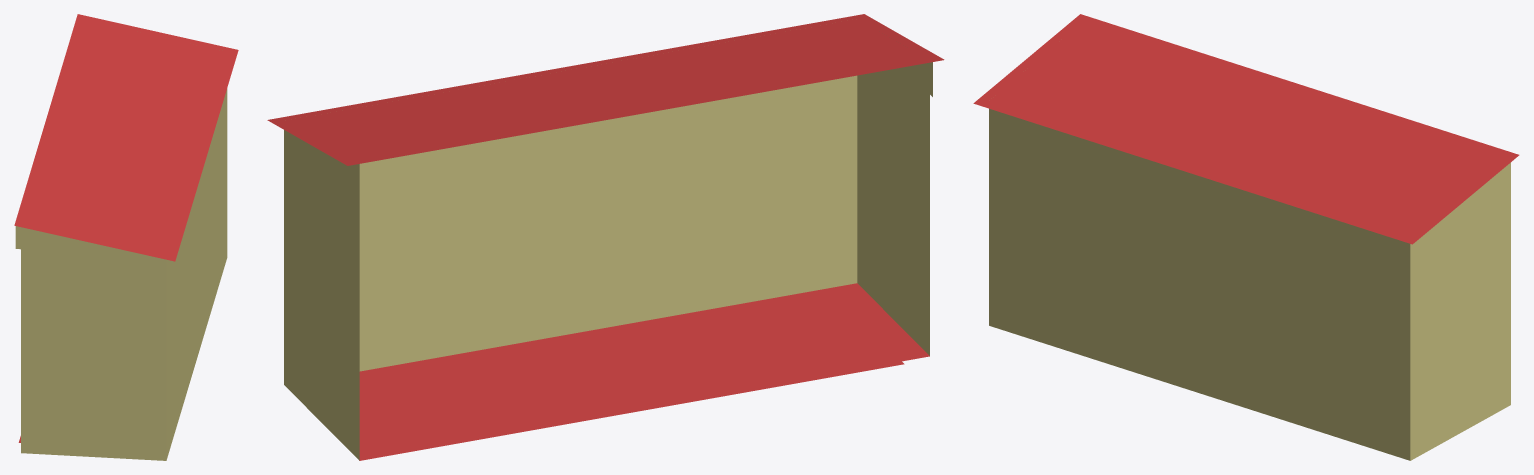
3 views of the same model, side by side, from view 1: azimuth 30°, elevation 25°; view 2: azimuth 150°, elevation 25°; view 3: azimuth 270°, elevation 25° (orthographic). The views are drawn at different scales.
Bounding box in the file's own units: 10.68 × 12.29 × 6.28.
